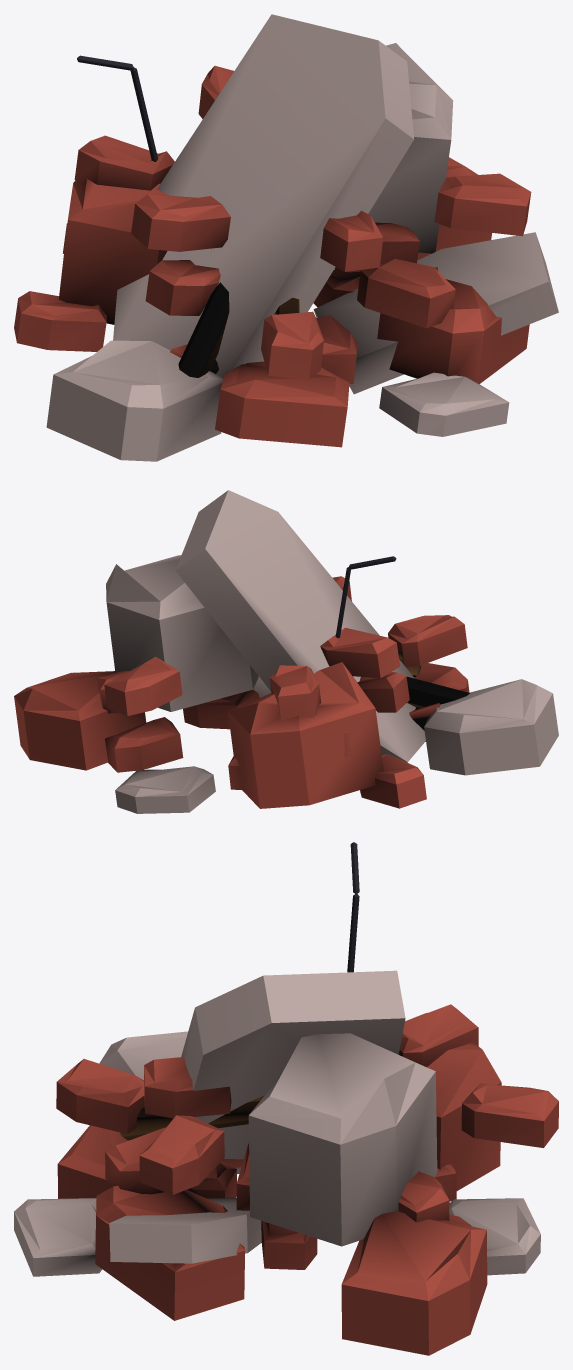
3 views of the same model, one above another, from view 1: azimuth 30°, elevation 25°; view 2: azimuth 150°, elevation 25°; view 3: azimuth 270°, elevation 25° (orthographic). The views are drawn at different scales.
Parts seen in each view (by area): view 1: body_pal_sidewalk, body_pal_brick, body_pal_woodWarm, body_pal_uiDark; view 2: body_pal_sidewalk, body_pal_brick, body_pal_woodWarm, body_pal_uiDark; view 3: body_pal_sidewalk, body_pal_brick, body_pal_woodWarm, body_pal_uiDark.
Boxes of the visible parts, x1,y1,x2,y2 form: body_pal_sidewalk: (46,14,558,461); body_pal_brick: (14,65,531,447); body_pal_woodWarm: (178,282,299,377); body_pal_uiDark: (77,55,157,161); body_pal_sidewalk: (106,490,558,813); body_pal_brick: (14,576,469,808); body_pal_woodWarm: (398,650,469,707); body_pal_uiDark: (335,556,396,638); body_pal_sidewalk: (14,970,540,1276); body_pal_brick: (56,1004,558,1355); body_pal_woodWarm: (120,1096,263,1140); body_pal_uiDark: (347,842,359,972).
Bounding box in the file's own units: 2.38 × 1.31 × 2.1.
